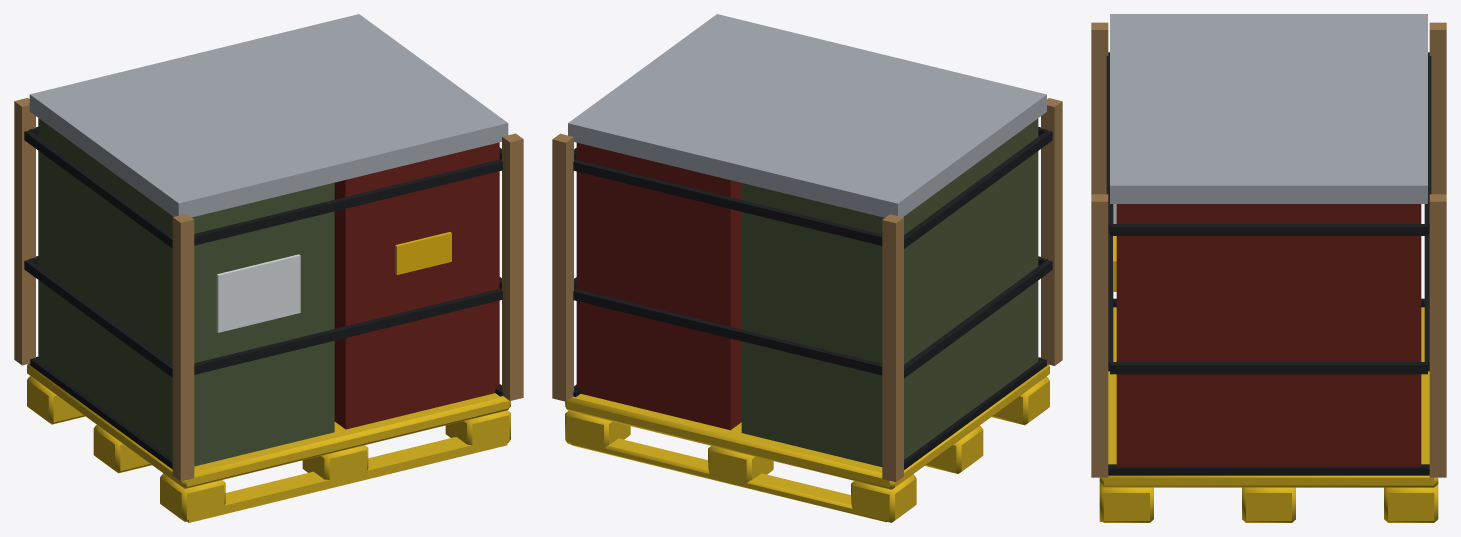
File: pallet_crates_banded.glb
The picture shows the model from 3 angles, left to right: view 1: azimuth 30°, elevation 25°; view 2: azimuth 150°, elevation 25°; view 3: azimuth 270°, elevation 25°; orthographic projection. The views are drawn at different scales.
Parts seen in each view (by area): view 1: pallet_crates_banded; view 2: pallet_crates_banded; view 3: pallet_crates_banded.
Boxes of the visible parts, x1=… form: pallet_crates_banded: x1=14, y1=14, x2=523, y2=522; pallet_crates_banded: x1=552, y1=14, x2=1062, y2=522; pallet_crates_banded: x1=1091, y1=14, x2=1446, y2=522.
Size of the model in its own units: 1.25 by 1.11 by 1.05.
